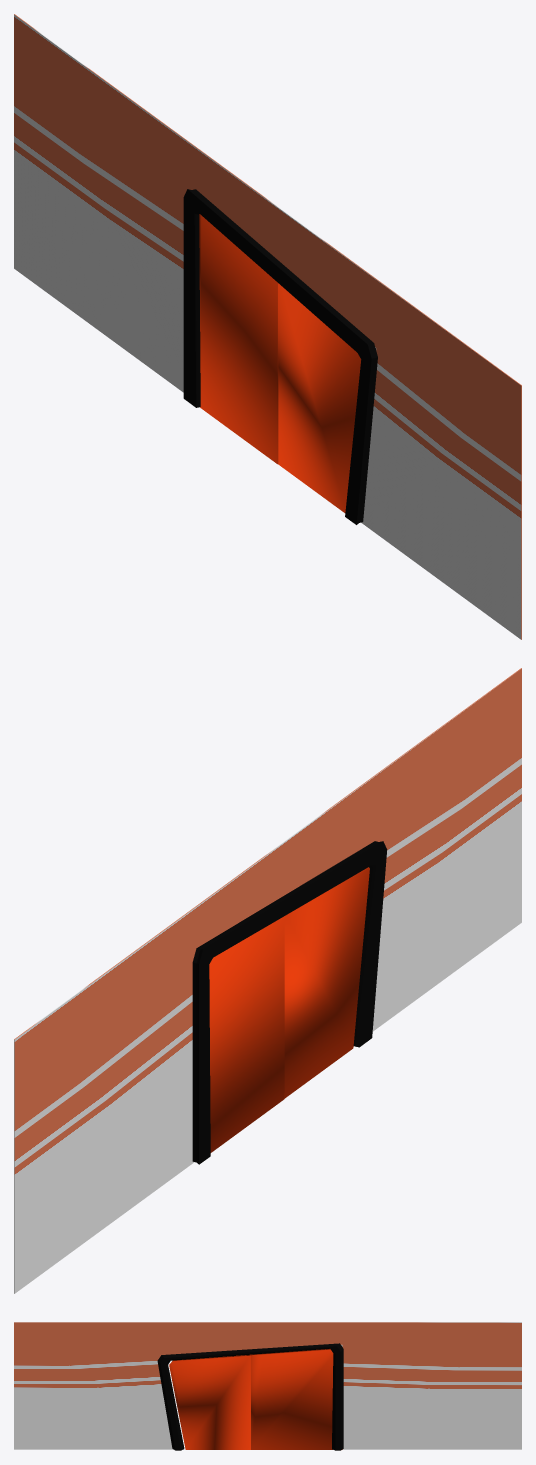
Rendered from BiggerDoorMesh.fbx.
3 renders of one model, top to bottom at view 1: azimuth 30°, elevation 25°; view 2: azimuth 150°, elevation 25°; view 3: azimuth 270°, elevation 25°, orthographic. The views are drawn at different scales.
Visible parts, largest first — view 1: Cube.004, hospital_scene.011, hospital_scene.010; view 2: Cube.004, hospital_scene.011, hospital_scene.010; view 3: Cube.004, hospital_scene.011, hospital_scene.010.
Boxes of the visible parts, x1,y1,x2,y2 form: Cube.004: (14,14,521,639); hospital_scene.011: (199,214,278,464); hospital_scene.010: (278,283,361,512); Cube.004: (14,668,521,1293); hospital_scene.011: (209,916,284,1152); hospital_scene.010: (284,867,369,1098); Cube.004: (14,1322,521,1450); hospital_scene.011: (251,1349,333,1449); hospital_scene.010: (169,1354,252,1449).
Size of the model in its own units: 17.66 by 300 by 1085.
3 materials, 1 textured.
